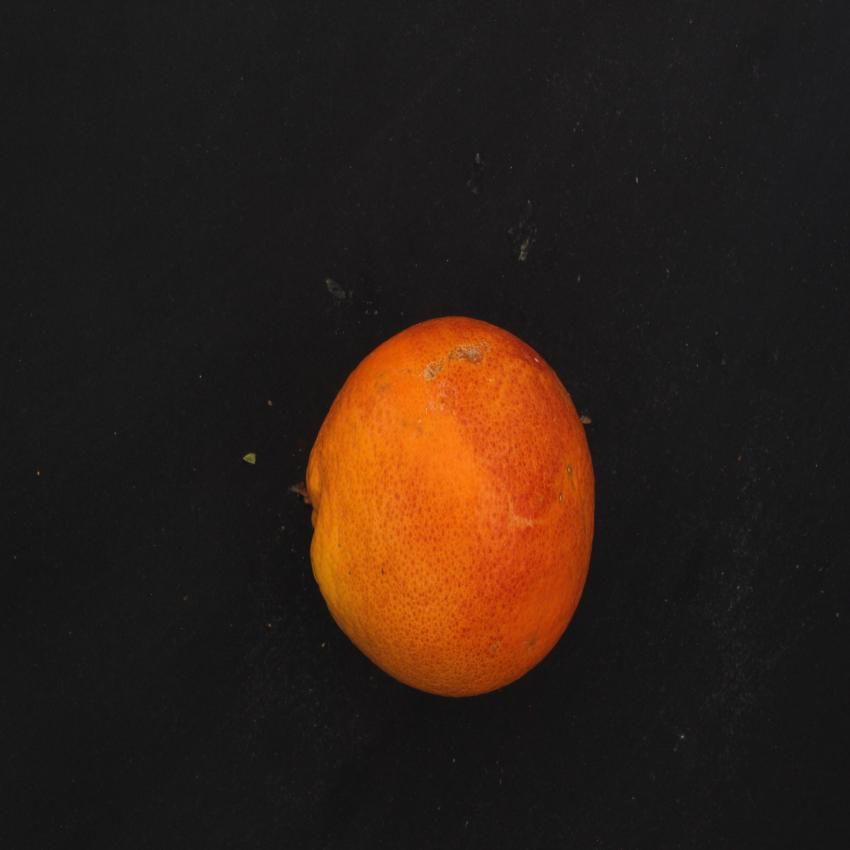Buen estado: (297, 304, 606, 712)
